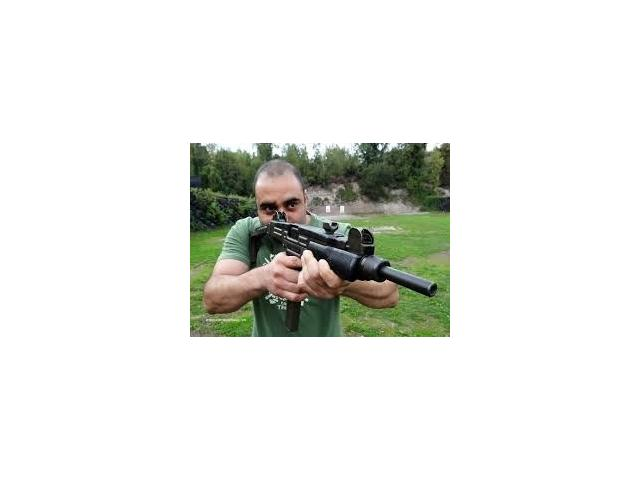rifle: (246, 217, 439, 332)
